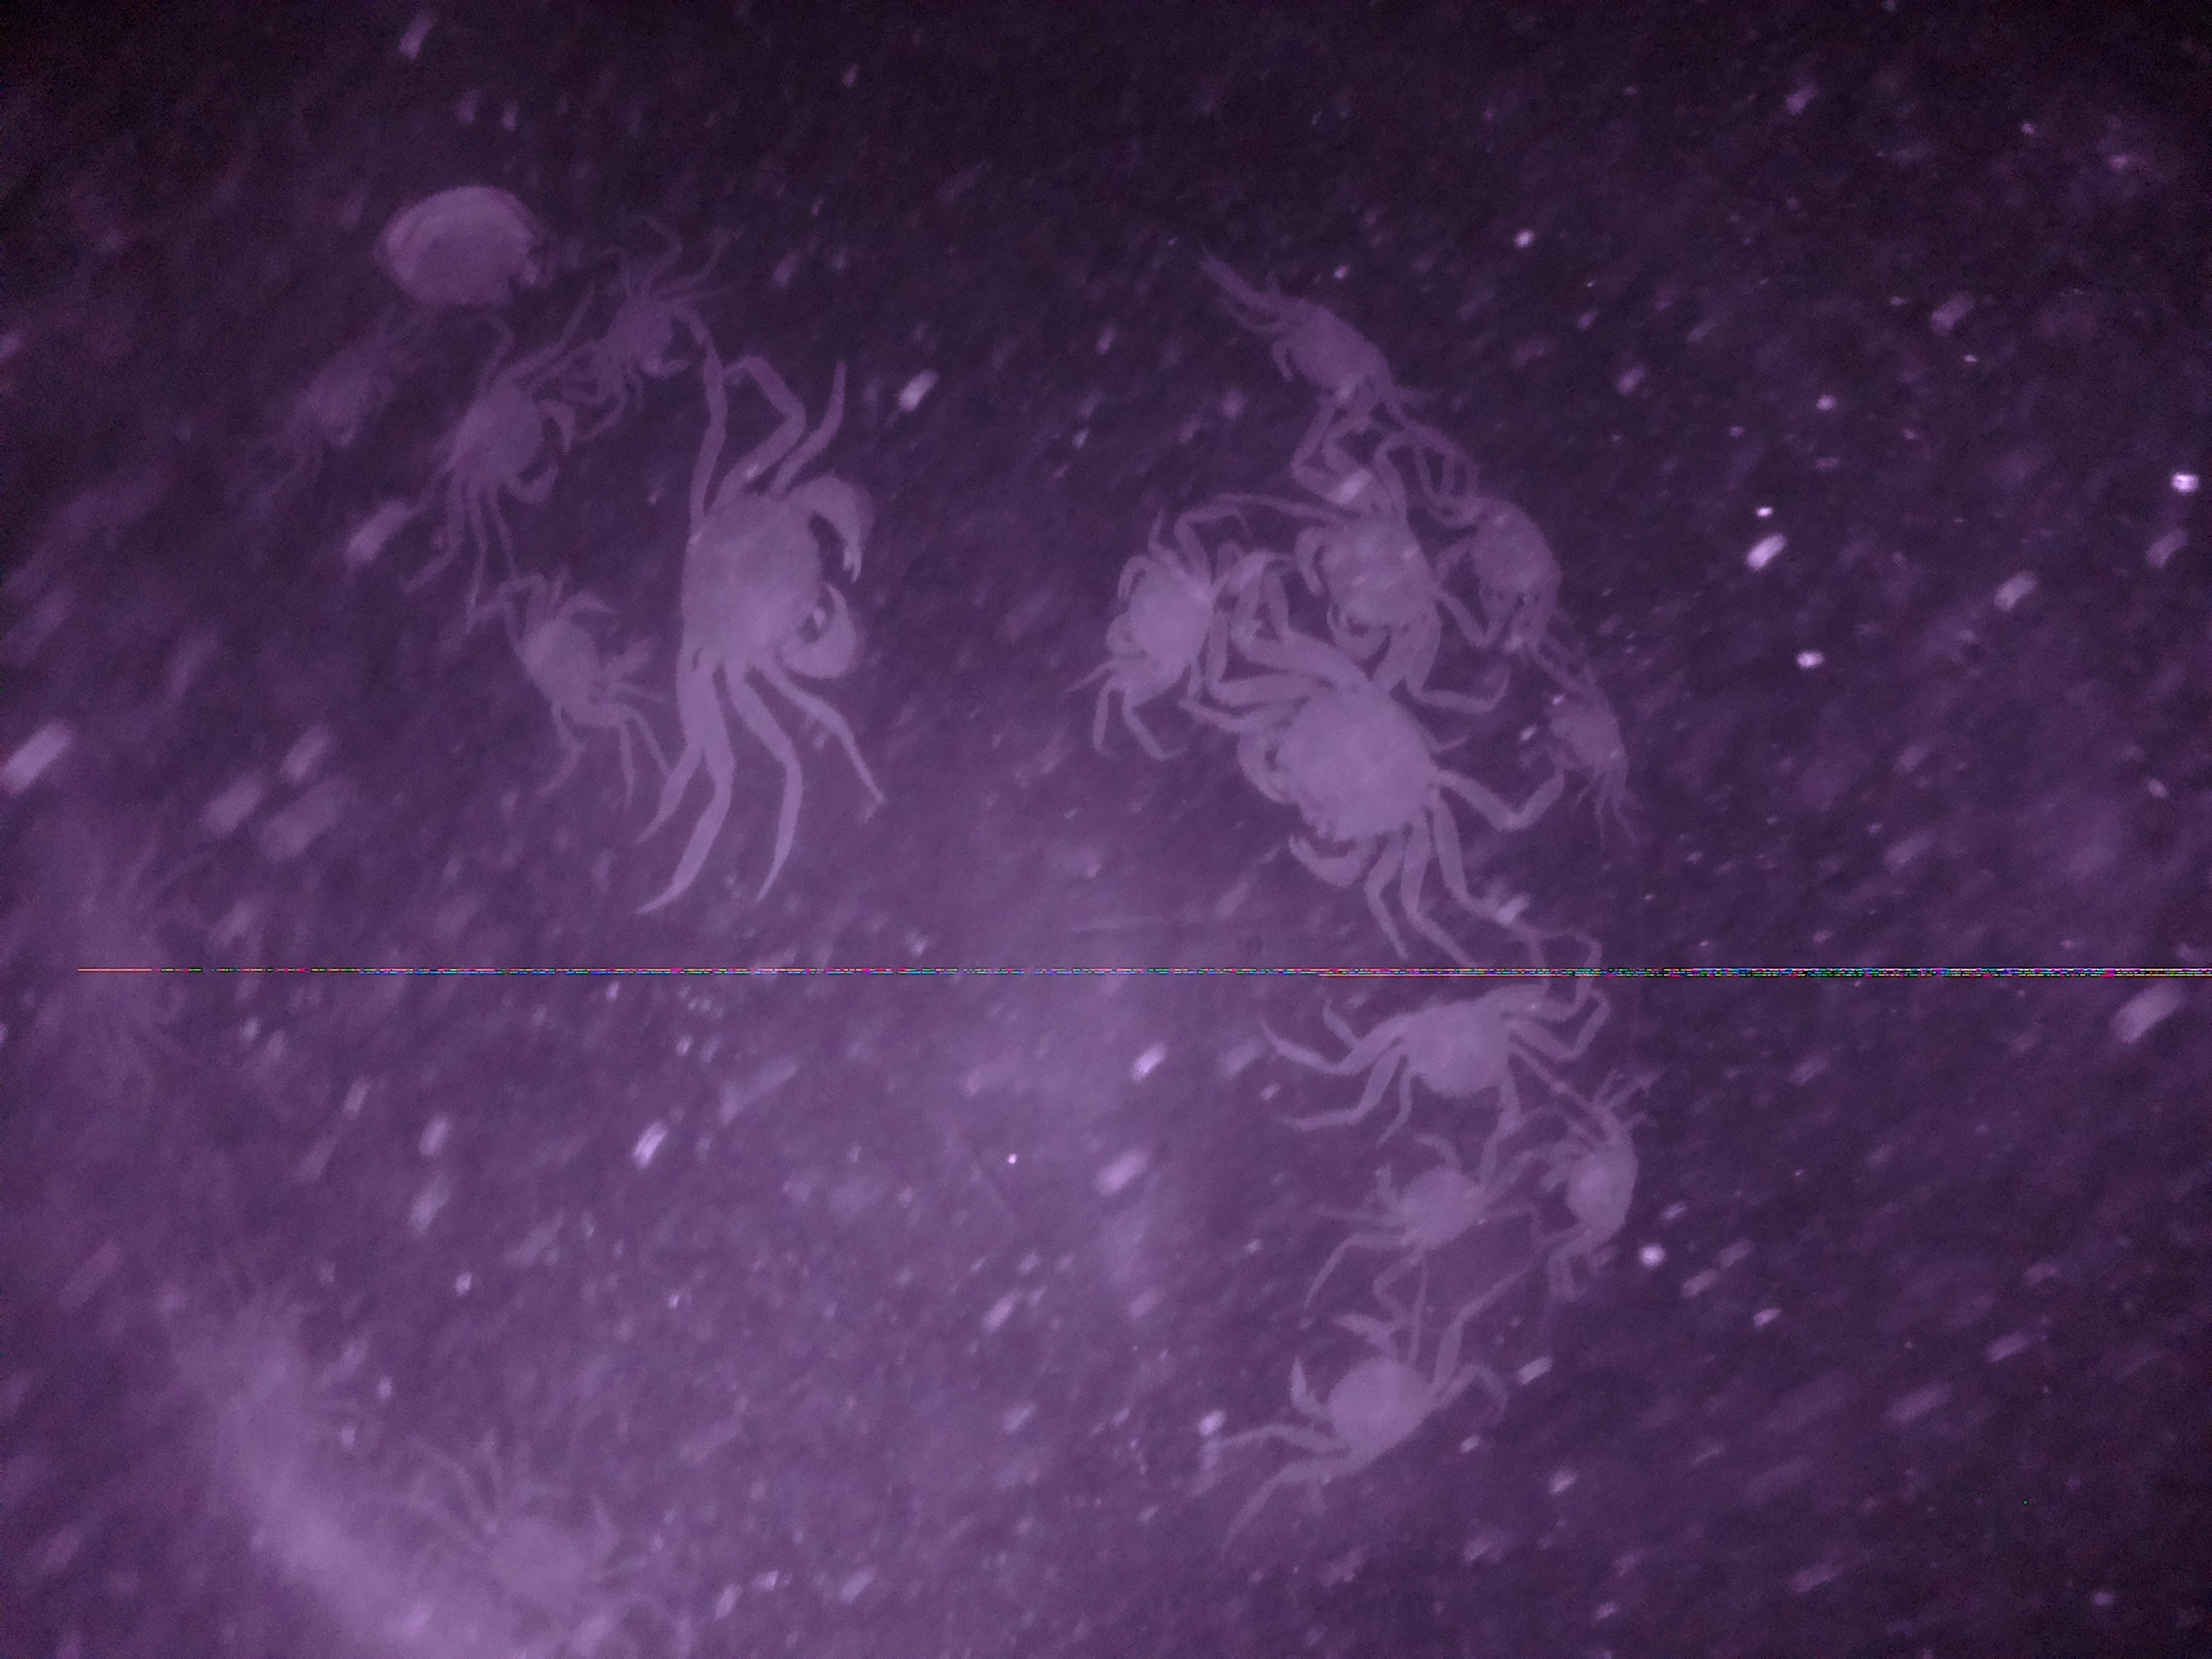Crab: (651, 434, 897, 725), (1217, 641, 1449, 892), (1258, 1297, 1456, 1492), (1277, 460, 1451, 673), (1339, 990, 1547, 1152), (1087, 493, 1231, 708), (409, 336, 580, 518), (1531, 1089, 1674, 1276), (507, 566, 655, 741), (1357, 1121, 1508, 1277)
